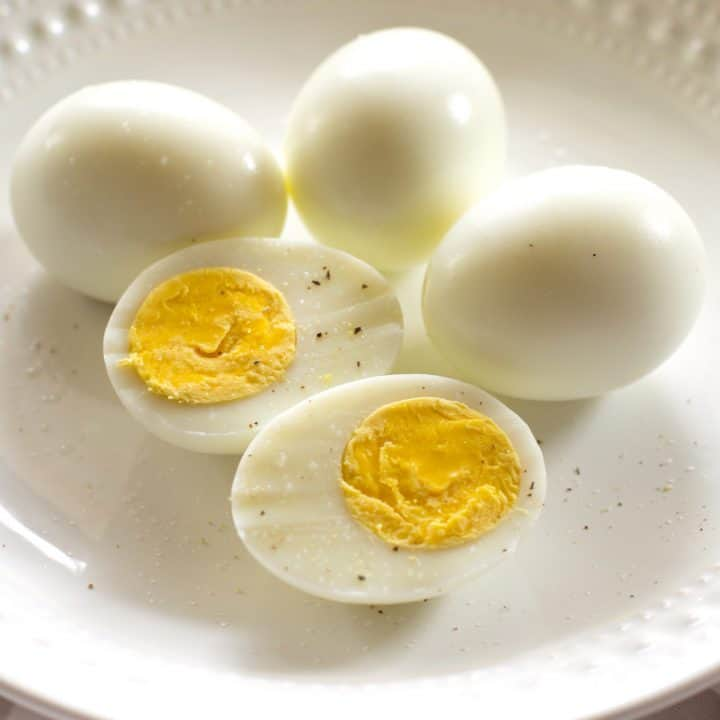egg: (229, 374, 559, 611), (390, 162, 720, 399), (7, 64, 292, 319), (108, 231, 420, 445), (271, 24, 519, 262)
